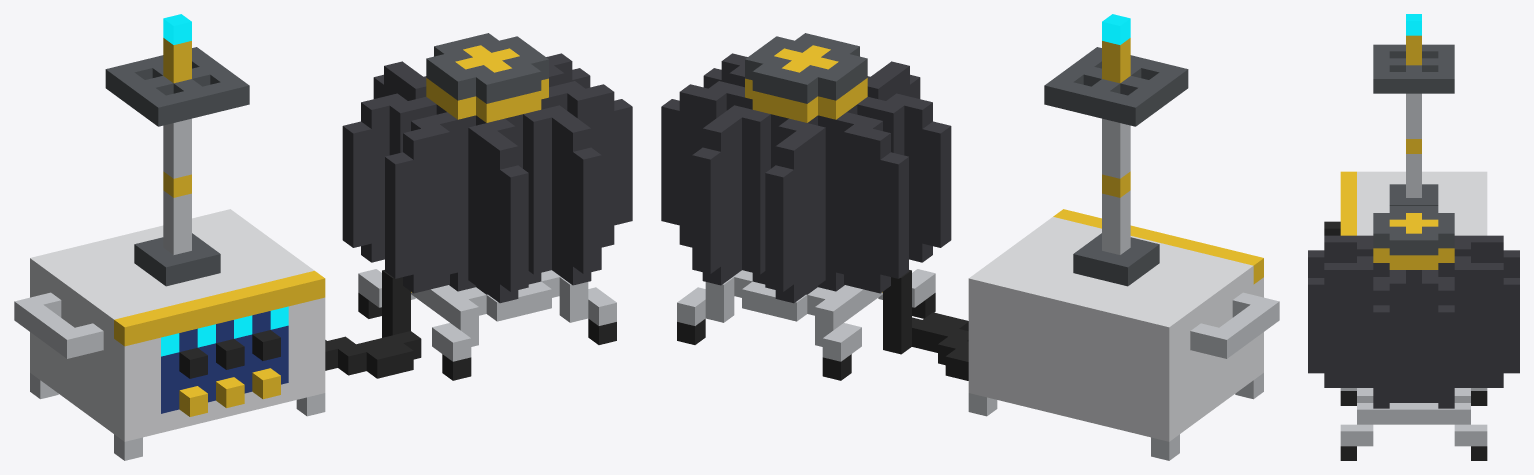
File: SNAP-27 Thermoelectric Generator (Apollo 12).glb
3 renders of one model, left to right at view 1: azimuth 30°, elevation 25°; view 2: azimuth 150°, elevation 25°; view 3: azimuth 270°, elevation 25°, orthographic. The views are drawn at different scales.
Parts seen in each view (by area): view 1: SNAP27_ALSEP_Voxel; view 2: SNAP27_ALSEP_Voxel; view 3: SNAP27_ALSEP_Voxel.
Boxes of the visible parts, box(x1,y1,x2,y2) form: SNAP27_ALSEP_Voxel: box(14, 14, 632, 460); SNAP27_ALSEP_Voxel: box(661, 14, 1279, 460); SNAP27_ALSEP_Voxel: box(1308, 14, 1519, 460).
Size of the model in its own units: 3.1 by 2 by 1.3.
